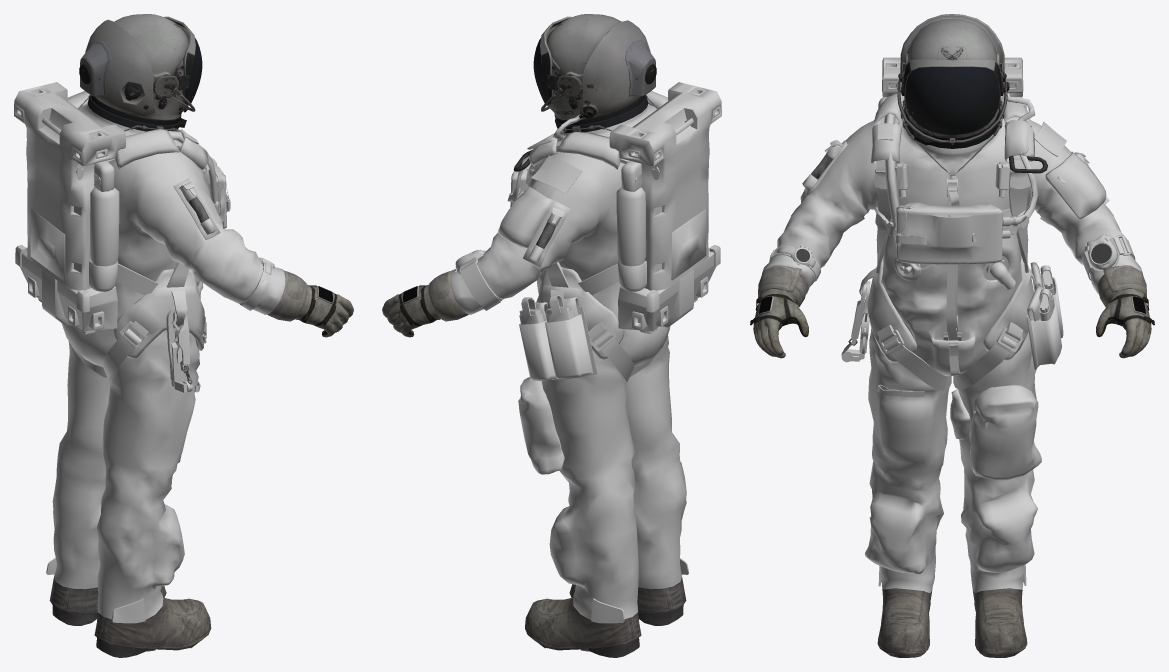
3 views of the same model, side by side, from view 1: azimuth 30°, elevation 25°; view 2: azimuth 150°, elevation 25°; view 3: azimuth 270°, elevation 25° (orthographic).
Visible parts, largest first — view 1: mtl_us_space_lowerbody_g, mtl_us_space_loadout_c, mtl_us_space_upperbody_g, mtl_us_space_headgear_g_2, mtl_us_space_boot_c, mtl_us_space_loadout_d, mtl_us_space_loadout_c_1, mtl_us_space_glove_c, mtl_us_space_headgear_g, mtl_us_space_lowerbody_g_1, mtl_us_space_headgear_b_3; view 2: mtl_us_space_lowerbody_g, mtl_us_space_loadout_c, mtl_us_space_upperbody_g, mtl_us_space_loadout_d, mtl_us_space_headgear_g_2, mtl_us_space_boot_c, mtl_us_space_glove_c, mtl_us_space_headgear_g, mtl_us_space_loadout_c_1, mtl_us_space_headgear_b_3; view 3: mtl_us_space_upperbody_g, mtl_us_space_lowerbody_g, mtl_us_space_loadout_d, mtl_us_space_loadout_c, mtl_us_space_glove_c, mtl_us_space_boot_c, mtl_us_space_headgear_g_2, mtl_us_space_alpha_aa, mtl_us_space_lowerbody_g_1, mtl_us_space_loadout_c_1, mtl_us_space_loadout_d_2, mtl_us_space_loadout_d_1 (+2 smaller).
Part boxes in pixels (left/top/right/bottom): mtl_us_space_lowerbody_g: left=46, top=282, right=206, bottom=623; mtl_us_space_loadout_c: left=14, top=82, right=228, bottom=334; mtl_us_space_upperbody_g: left=74, top=104, right=285, bottom=326; mtl_us_space_headgear_g_2: left=85, top=14, right=195, bottom=120; mtl_us_space_boot_c: left=49, top=577, right=211, bottom=657; mtl_us_space_loadout_d: left=67, top=91, right=275, bottom=392; mtl_us_space_loadout_c_1: left=113, top=269, right=204, bottom=358; mtl_us_space_glove_c: left=267, top=270, right=353, bottom=337; mtl_us_space_headgear_g: left=79, top=40, right=189, bottom=112; mtl_us_space_lowerbody_g_1: left=153, top=504, right=184, bottom=586; mtl_us_space_headgear_b_3: left=87, top=95, right=181, bottom=131; mtl_us_space_lowerbody_g: left=542, top=282, right=688, bottom=623; mtl_us_space_loadout_c: left=510, top=82, right=721, bottom=334; mtl_us_space_upperbody_g: left=450, top=104, right=656, bottom=314; mtl_us_space_loadout_d: left=455, top=91, right=667, bottom=474; mtl_us_space_headgear_g_2: left=540, top=14, right=650, bottom=120; mtl_us_space_boot_c: left=525, top=577, right=686, bottom=657; mtl_us_space_glove_c: left=382, top=269, right=468, bottom=337; mtl_us_space_headgear_g: left=546, top=40, right=656, bottom=118; mtl_us_space_loadout_c_1: left=536, top=267, right=624, bottom=359; mtl_us_space_headgear_b_3: left=554, top=95, right=648, bottom=132; mtl_us_space_upperbody_g: left=762, top=106, right=1142, bottom=419; mtl_us_space_lowerbody_g: left=868, top=279, right=1037, bottom=592; mtl_us_space_loadout_d: left=769, top=93, right=1135, bottom=480; mtl_us_space_loadout_c: left=878, top=57, right=1026, bottom=264; mtl_us_space_glove_c: left=750, top=265, right=1154, bottom=358; mtl_us_space_boot_c: left=877, top=586, right=1027, bottom=657; mtl_us_space_headgear_g_2: left=897, top=14, right=1007, bottom=142; mtl_us_space_alpha_aa: left=905, top=67, right=999, bottom=134; mtl_us_space_lowerbody_g_1: left=865, top=494, right=926, bottom=574; mtl_us_space_loadout_c_1: left=867, top=256, right=1033, bottom=362; mtl_us_space_loadout_d_2: left=884, top=93, right=1038, bottom=234; mtl_us_space_loadout_d_1: left=875, top=205, right=1029, bottom=270.
Bounding box in the file's own units: 0.7117 × 1.86 × 1.11.
